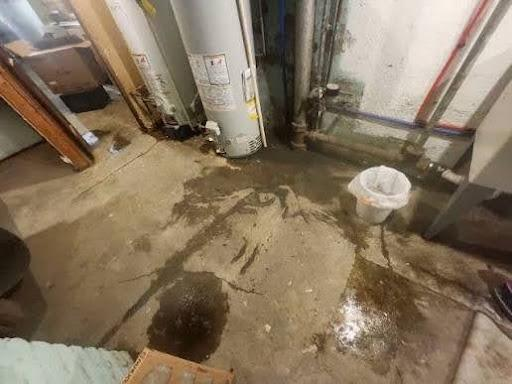water accumulation: (146, 134, 436, 374)
